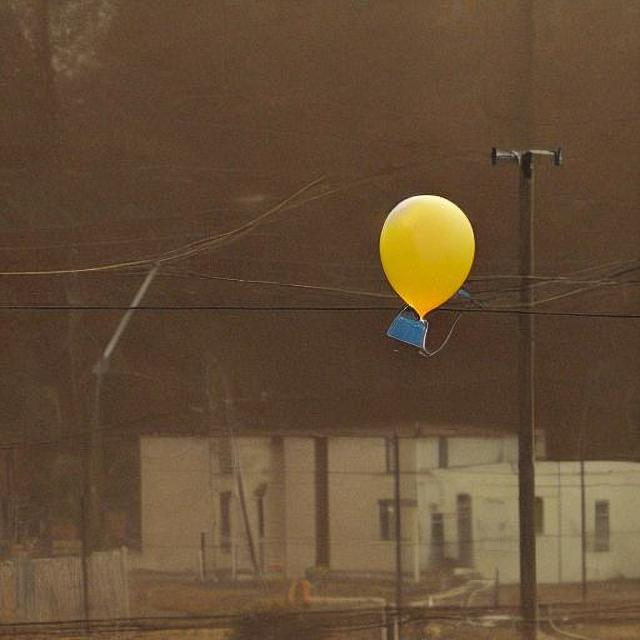balloon: (372, 192, 476, 326)
